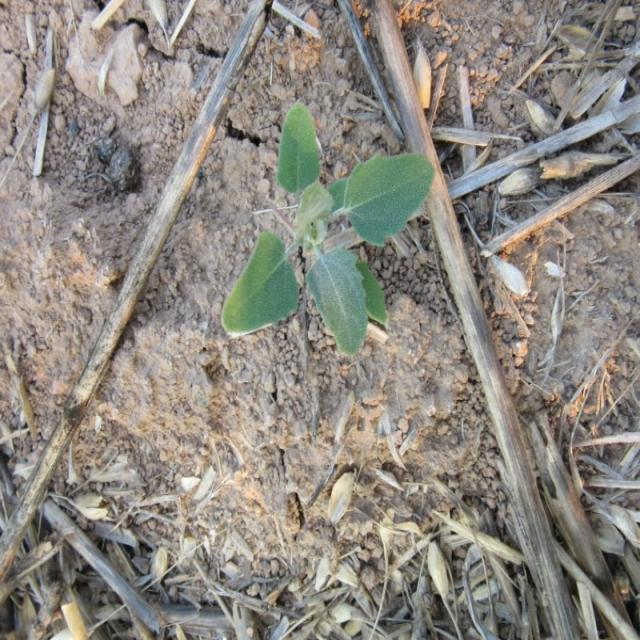ca: (224, 102, 430, 348)
